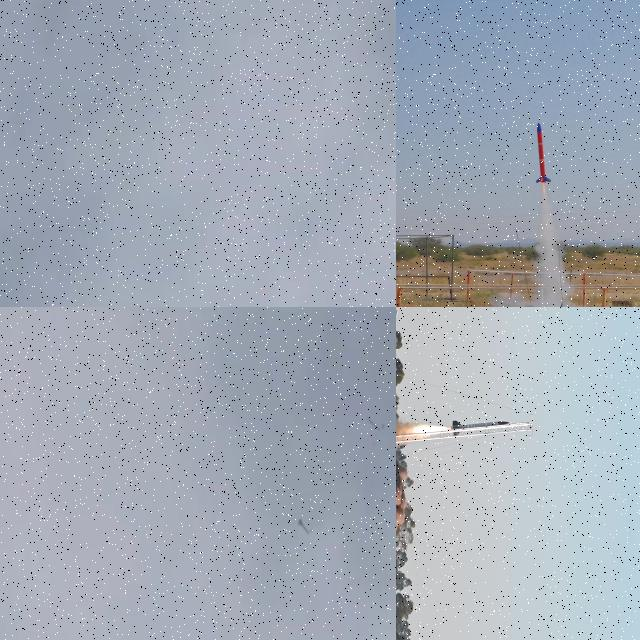Rocket: (535, 122, 551, 183), (451, 420, 510, 436), (298, 518, 309, 535)
